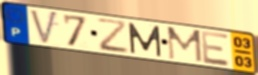7: (62, 13, 89, 48)
E: (199, 29, 232, 68)
M: (166, 26, 204, 64), (127, 21, 164, 58)
V: (28, 8, 60, 47)
Z: (95, 17, 131, 55)
